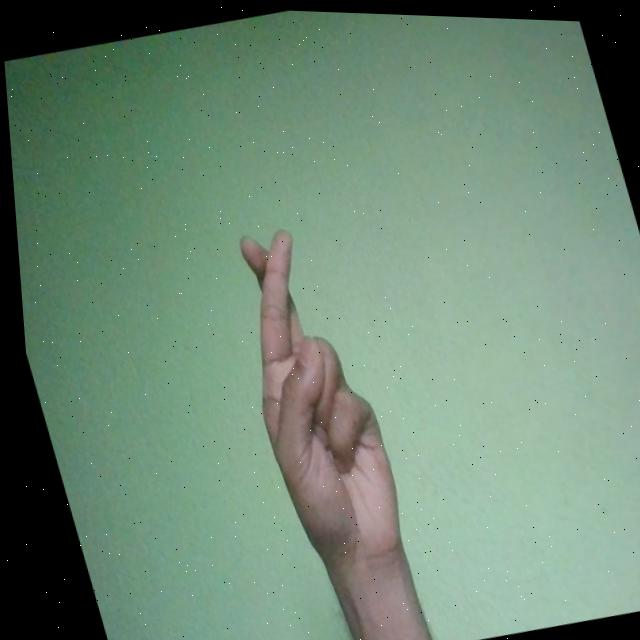Good Luck: (206, 215, 410, 582)
